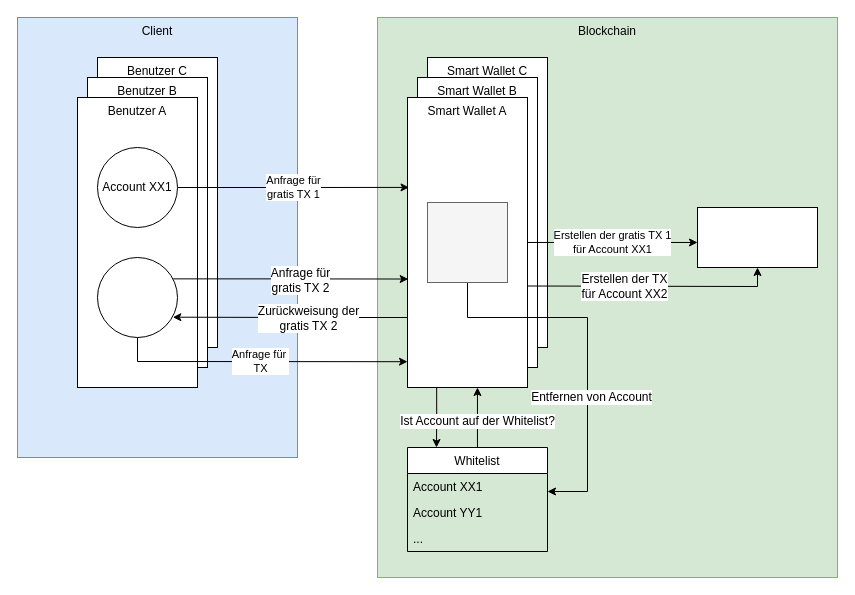
Some shapes in this 855 by 595 pixel diagram are drawn without their labels. Each missing label, with the centre of its shape:
"Account XX2" goes at pixel 137 297.
"DoS Algorithmus" goes at pixel 467 242.
"Ziel der Transaktion" goes at pixel 757 237.
